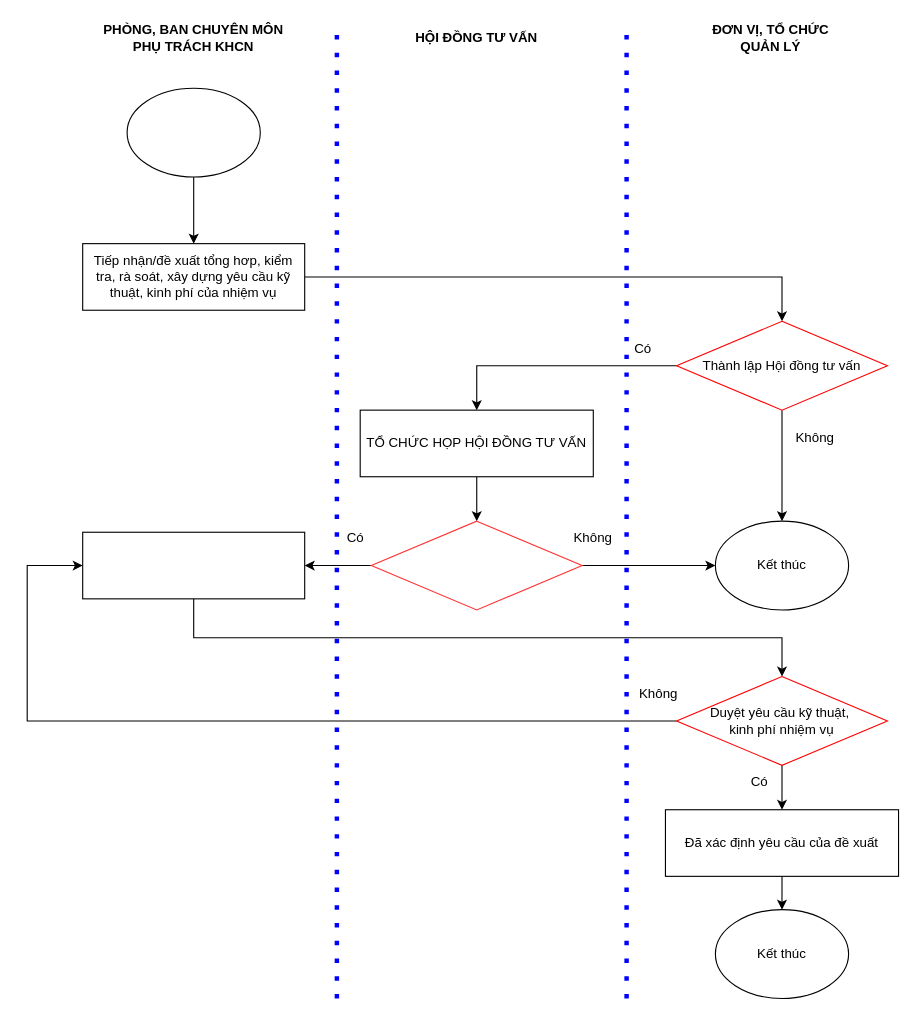
The diagram is 918 pixels wide and 1020 high, and some of its shapes have lost their labels. The centre of each missing label's shape, as x and y in pixels:
"Bắt đầu" belongs at pixel 193 132.
"Hoàn thiện theo yêu cầu" belongs at pixel 193 565.
"Hội đồng thông qua đề xuất" belongs at pixel 476 565.
